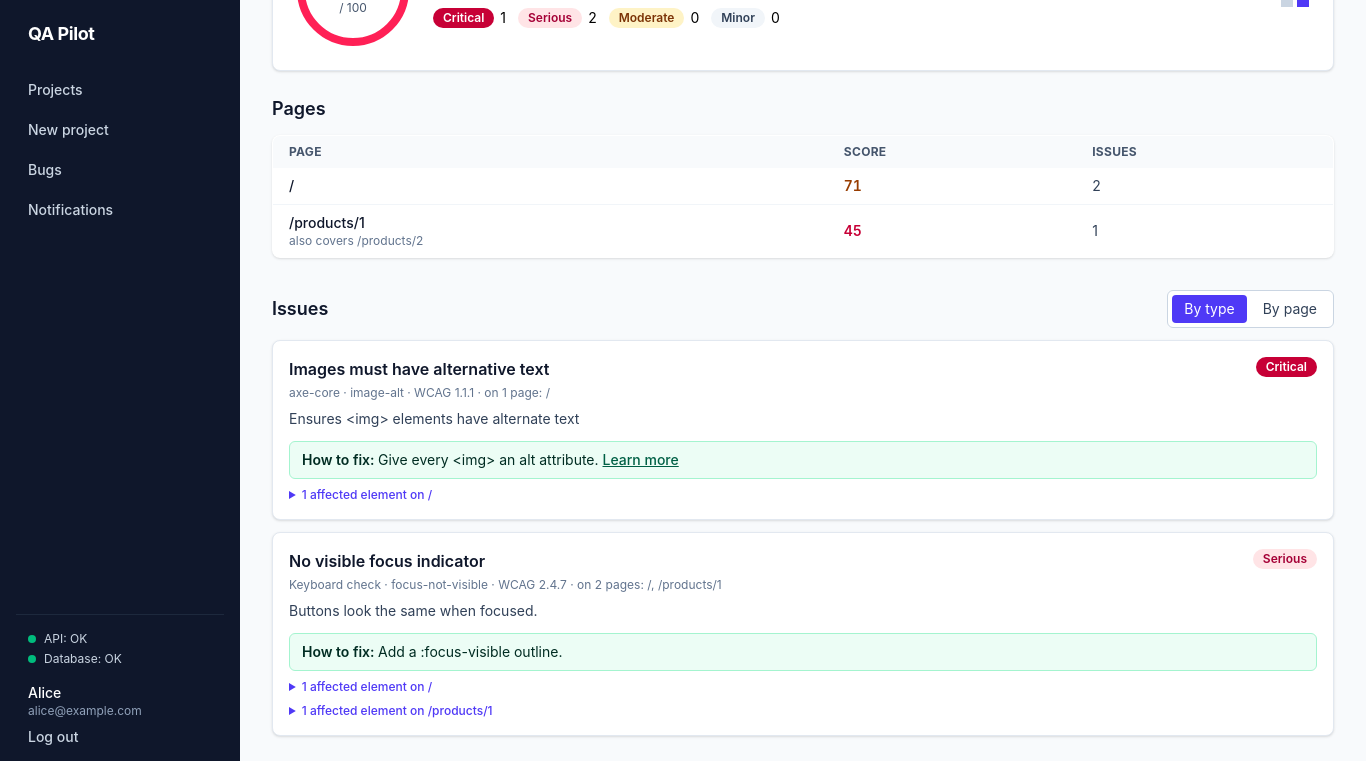
Scenario: accessibility page › shows the score, pages, issues grouped by type with how-to-fix, and by page
(page scrolled)
Expected: the text "also covers /products/2" is shown, [289,233,423,248]
Expected: the text "45" is shown, [828,204,1076,258]
Click the heading "1 affected element on /" below "Images must have alternative text" at (367, 494), box [302,487,432,502]
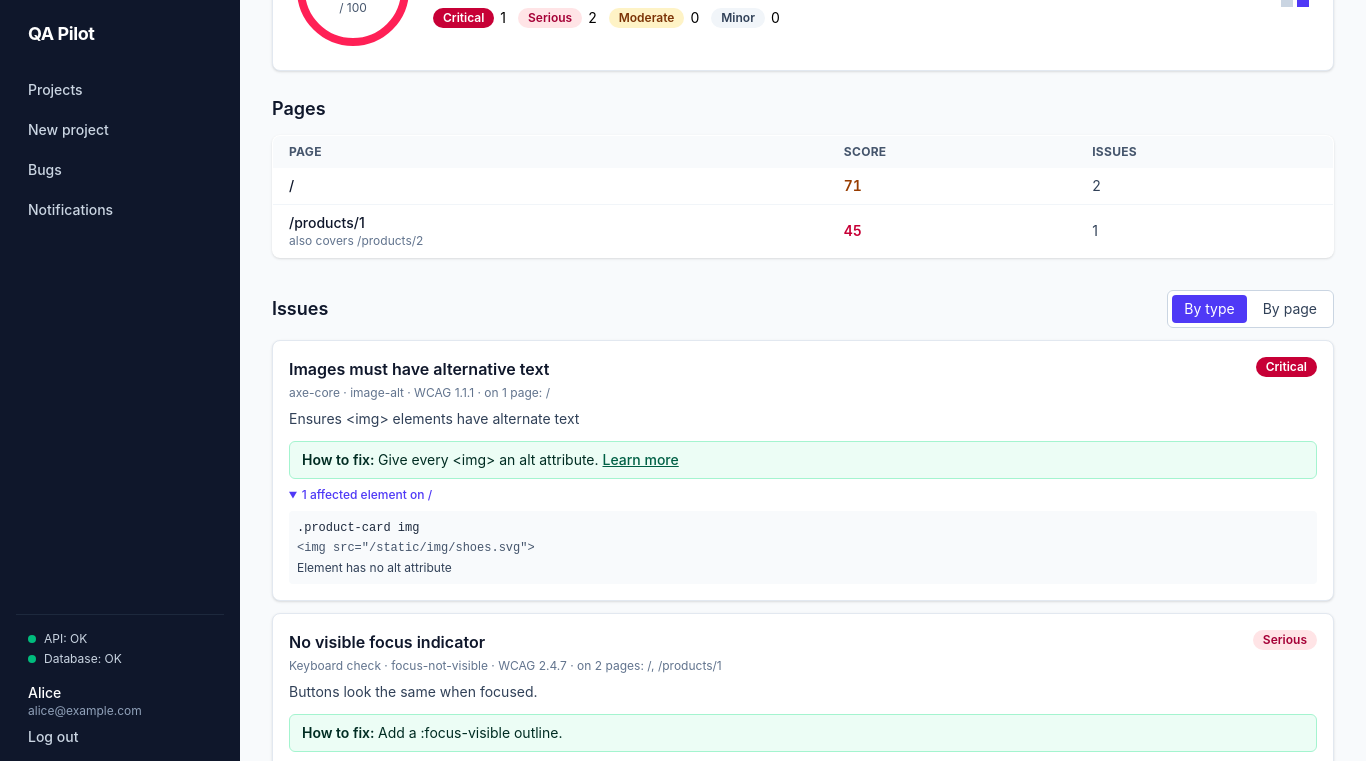
Expected: the text ".product-card img" is shown, [297,521,419,535]
Click the radio button labelled "By page" at (1290, 308), box [1263,300,1317,317]
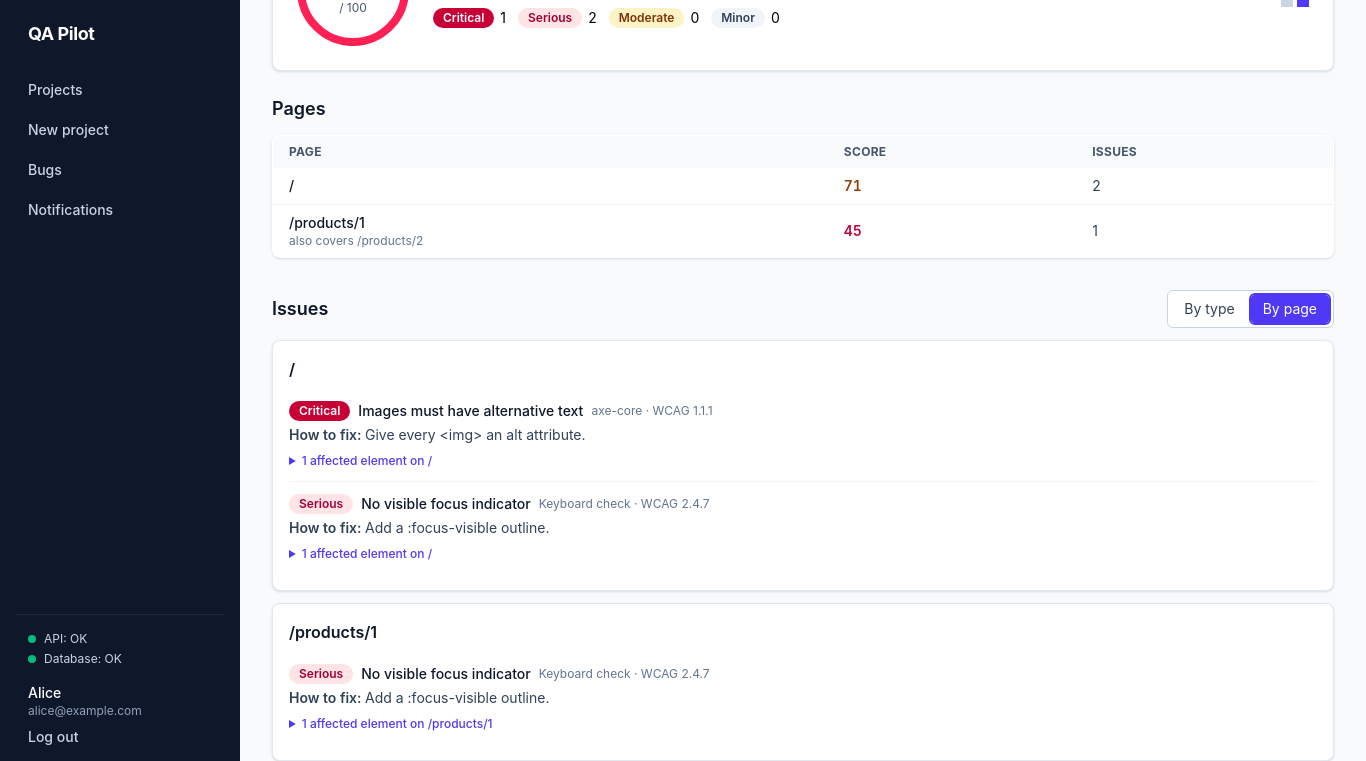
Expected: the heading "/products/1" is shown, [289,622,377,642]
Expected: the heading "/" is shown, [289,359,295,379]
